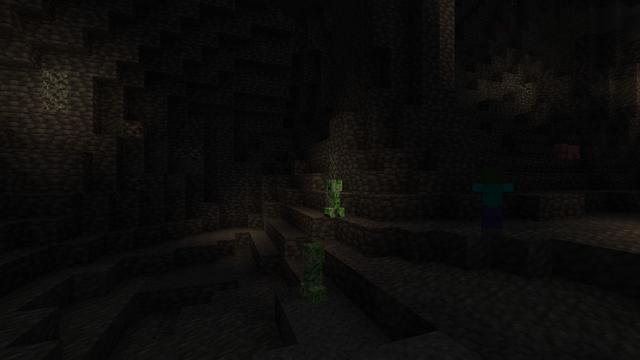cochons: (555, 144, 579, 159)
creepers: (300, 239, 324, 303), (325, 178, 342, 217)
zombies: (475, 168, 508, 236)
